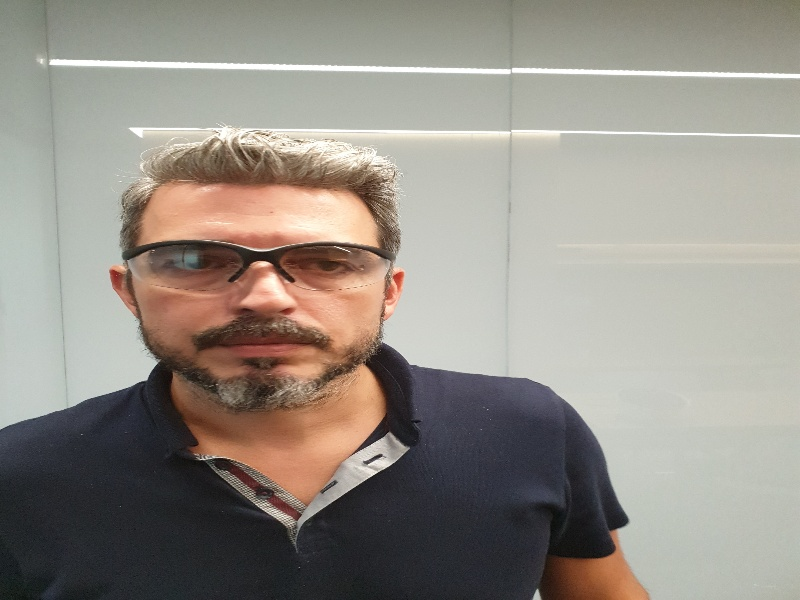Gozluk: (120, 239, 396, 295)
